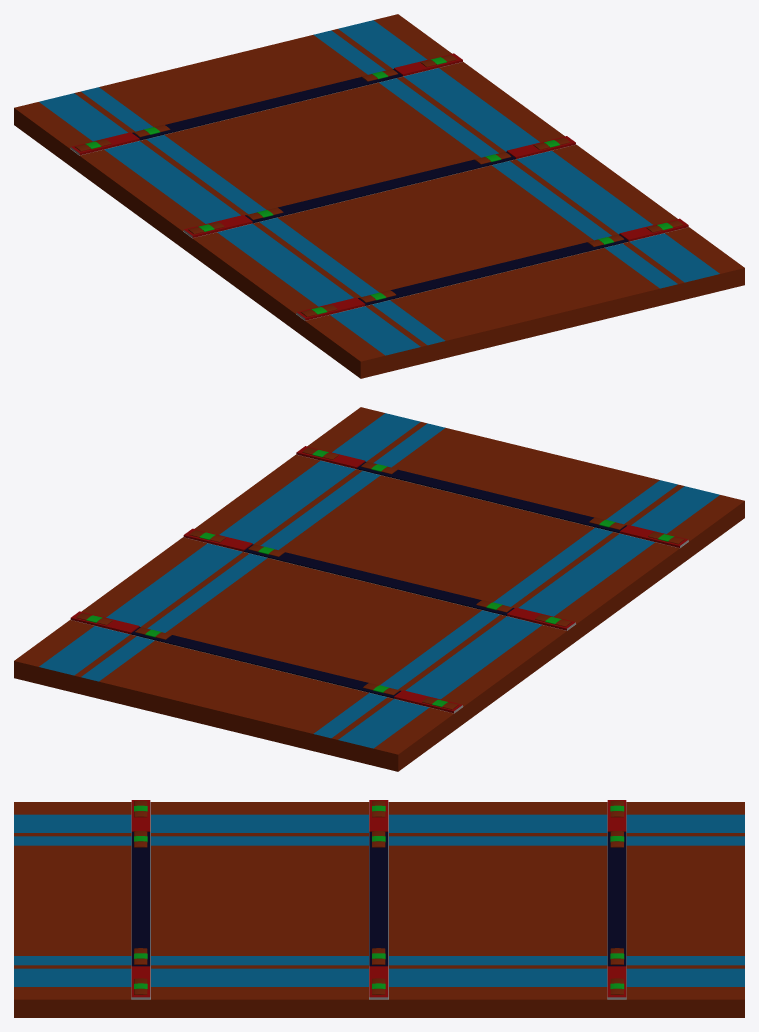
File: roof.FBX
3 views of the same model, one above another, from view 1: azimuth 30°, elevation 25°; view 2: azimuth 150°, elevation 25°; view 3: azimuth 270°, elevation 25° (orthographic). The views are drawn at different scales.
Visible parts, largest first — view 1: Roof; view 2: Roof; view 3: Roof.
Part boxes in pixels (x1=…): Roof: x1=14, y1=14, x2=744, y2=378; Roof: x1=14, y1=407, x2=744, y2=771; Roof: x1=14, y1=800, x2=744, y2=1017.
Size of the model in its own units: 1968 by 99.79 by 3077.
